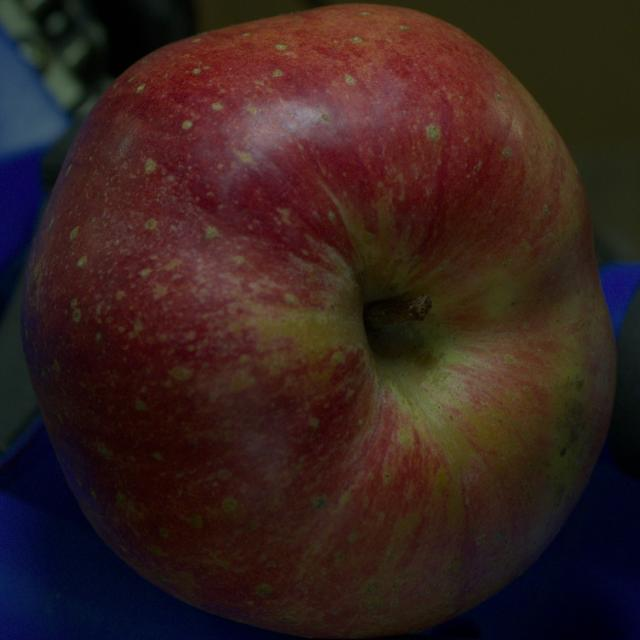apple: (22, 4, 616, 637)
